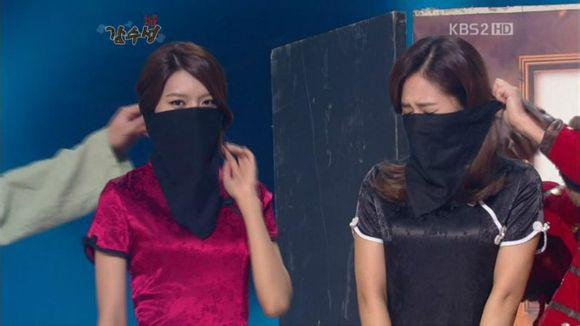OK: (402, 96, 466, 156), (161, 92, 219, 150)
